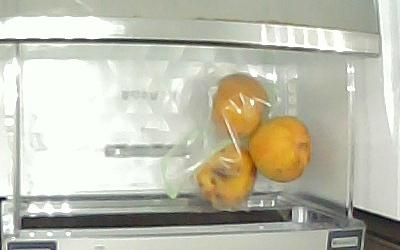peach: (250, 115, 310, 183)
peach_vinyl: (194, 146, 257, 212), (210, 73, 269, 139)
